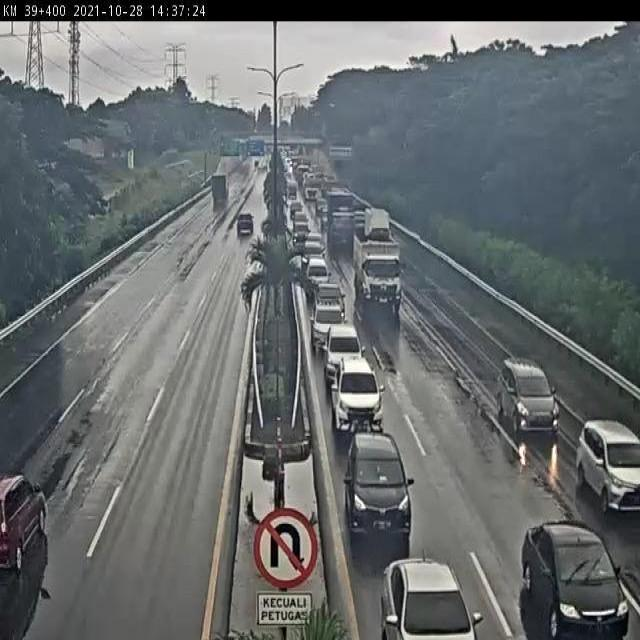big truck: (352, 229, 405, 308)
car: (522, 513, 631, 640), (383, 550, 482, 640), (343, 432, 417, 536), (575, 416, 640, 520), (495, 352, 562, 436), (0, 468, 49, 571), (329, 351, 386, 436), (325, 323, 365, 384), (310, 301, 349, 352), (317, 277, 347, 319)
